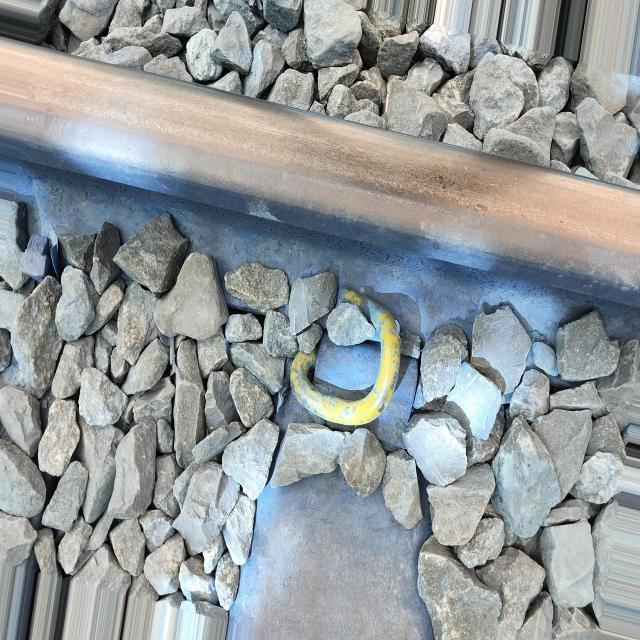squats_high: (438, 173, 457, 192), (476, 203, 492, 215)
